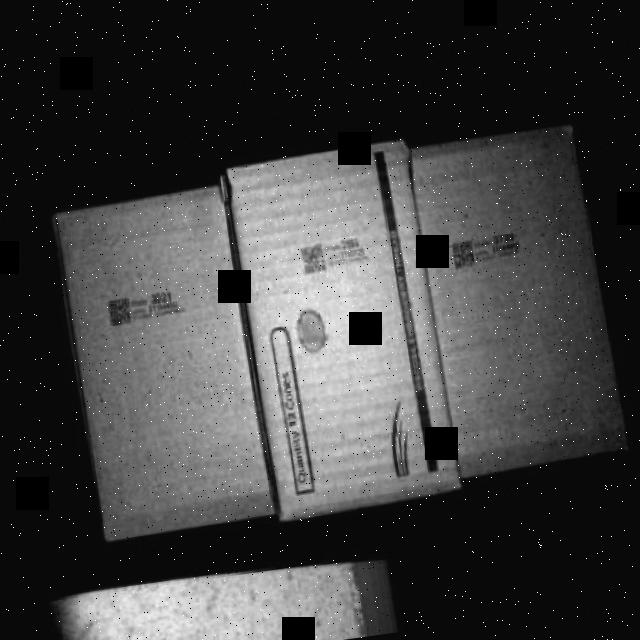box: (228, 138, 467, 521), (50, 175, 276, 546), (414, 124, 627, 473)
